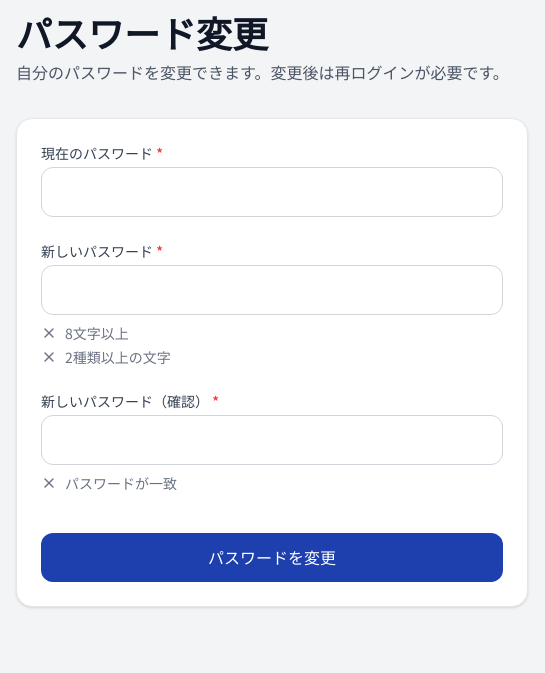
Test: S-09 PasswordReset › form validation › should show error when current password is empty
This screenshot has width=545, height=673.
Click the button "パスワードを変更": point(272, 557) [41, 533, 503, 582]
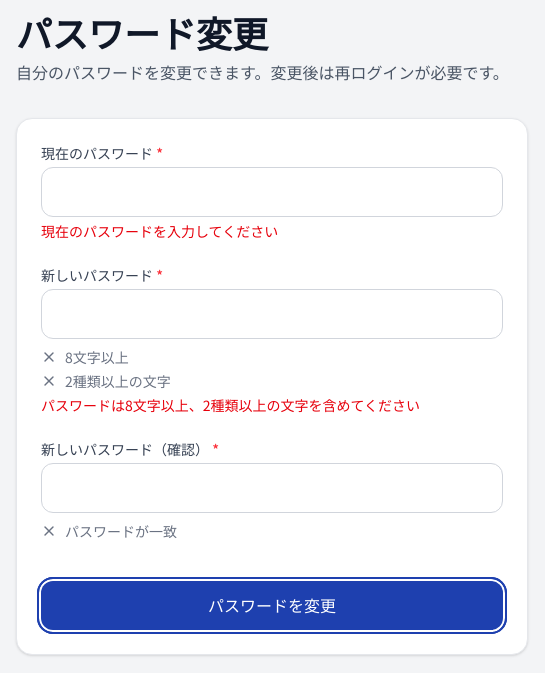
Expected: the text "現在のパスワードを入力してください" is shown, [41, 221, 278, 241]
